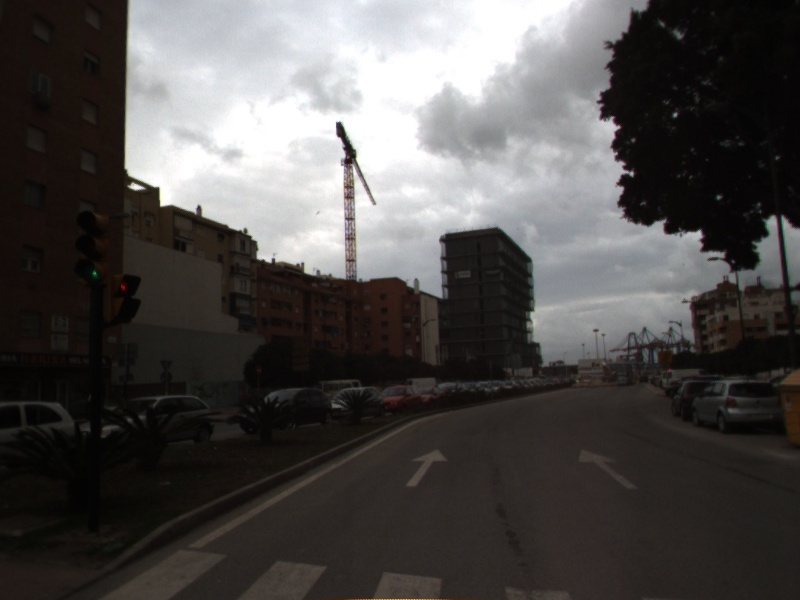STRAIGHT: (576, 447, 641, 492), (404, 447, 451, 488)
